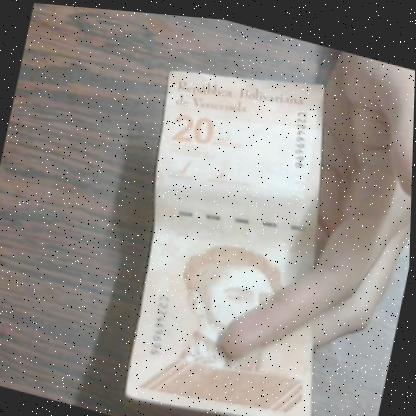twenty-front-vef: (103, 39, 378, 416)
